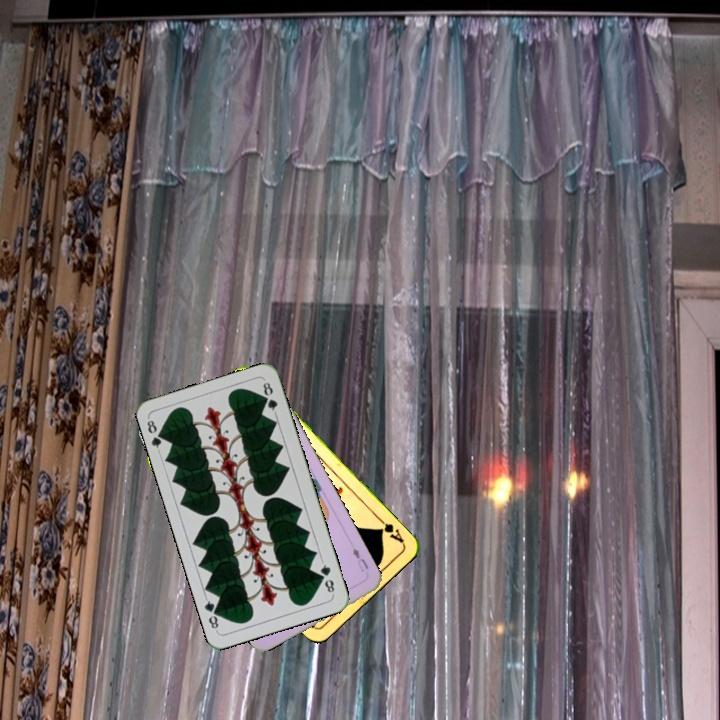EU: (348, 544, 371, 575)
G8: (143, 414, 168, 454), (316, 557, 337, 597)
GA: (374, 513, 407, 546)
